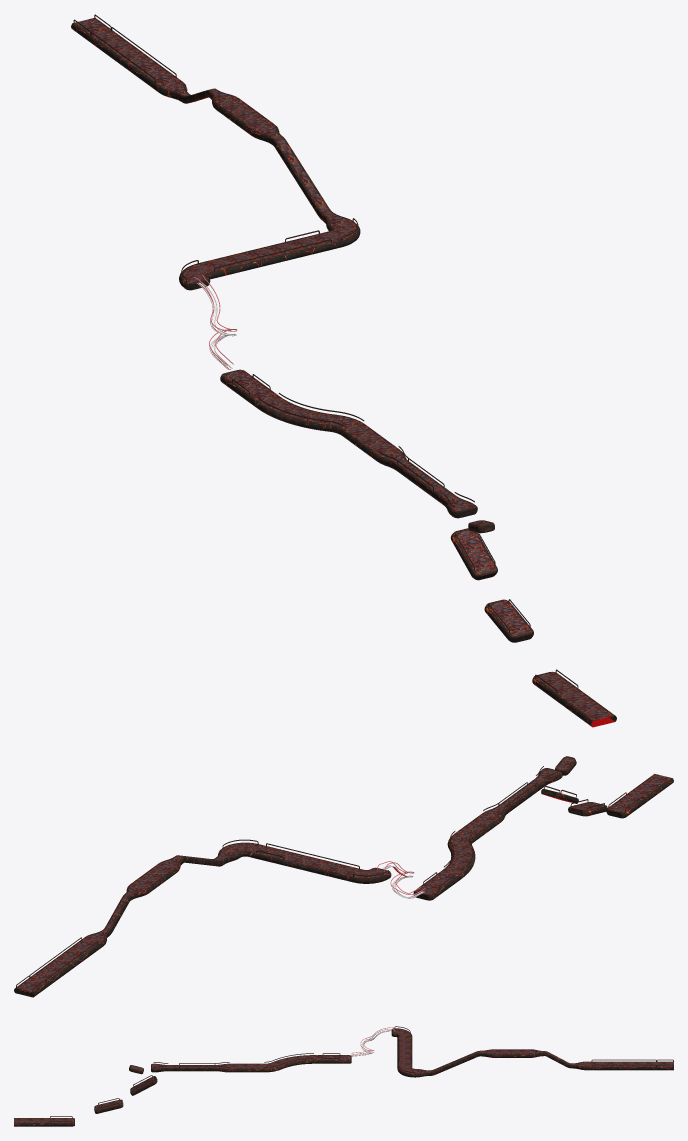
Rendered from map43.fbx.
The picture shows the model from 3 angles, top to bottom: view 1: azimuth 30°, elevation 25°; view 2: azimuth 150°, elevation 25°; view 3: azimuth 270°, elevation 25°; orthographic projection. The views are drawn at different scales.
Parts seen in each view (by area): view 1: Normal; view 2: Normal; view 3: Normal.
Part boxes in pixels (x1,y1,x2,y2): Normal: (71, 14, 616, 727); Normal: (14, 756, 673, 997); Normal: (14, 1026, 673, 1126).
Bounding box in the file's own units: 3987 × 4012 × 22661.
11 materials, 5 textured.
